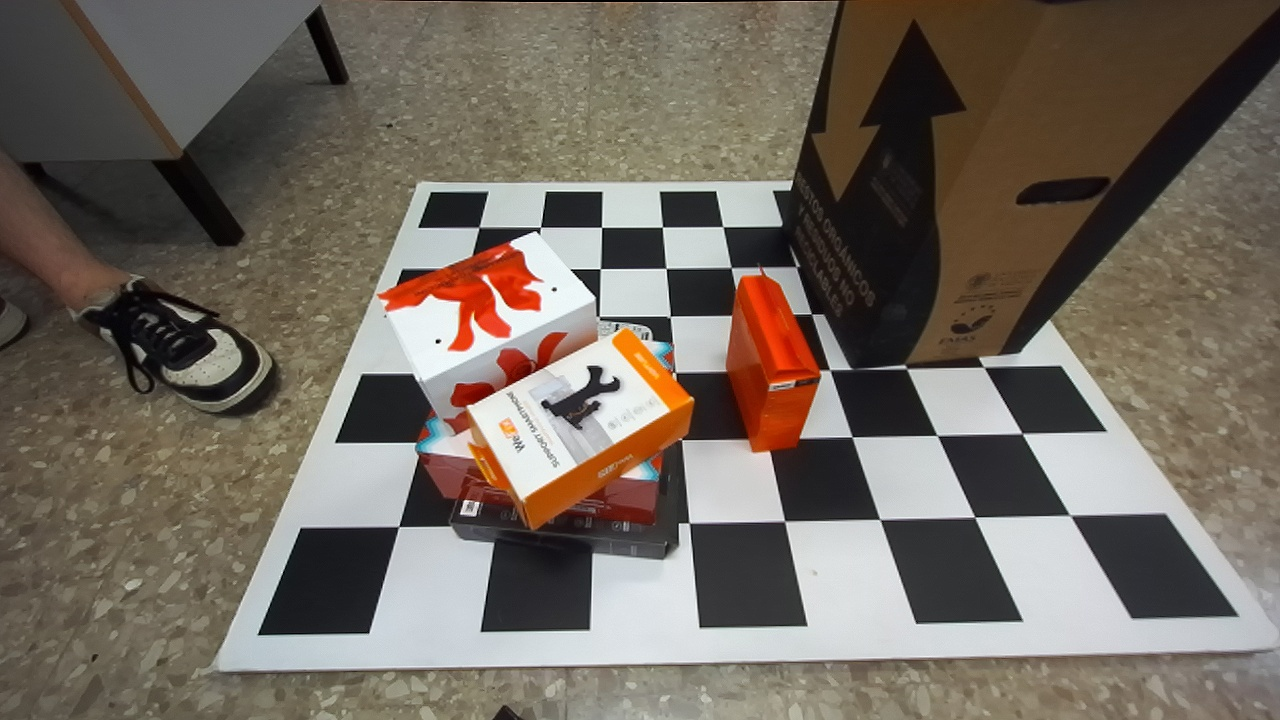caja_busbar: (414, 328, 676, 530)
caja_chasis: (450, 442, 681, 559)
caja_manguera: (725, 270, 819, 450)
caja_pcb: (468, 329, 693, 528)
caja_potencia: (379, 232, 597, 433)
